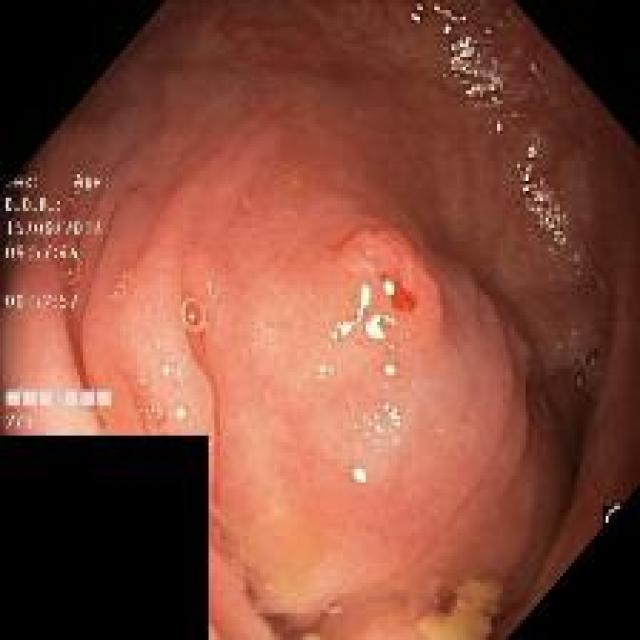Polyps: (85, 136, 548, 638)
